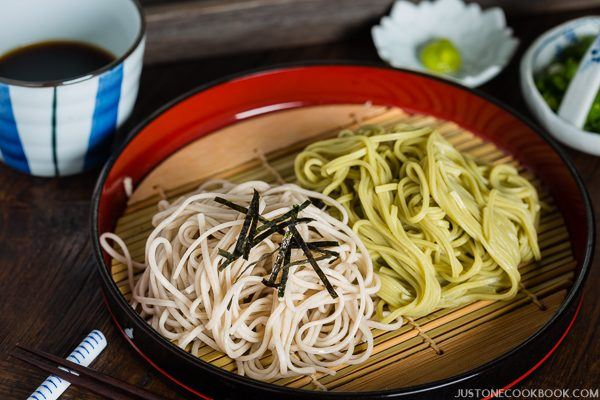Soba: (148, 180, 382, 381), (310, 126, 545, 314)
